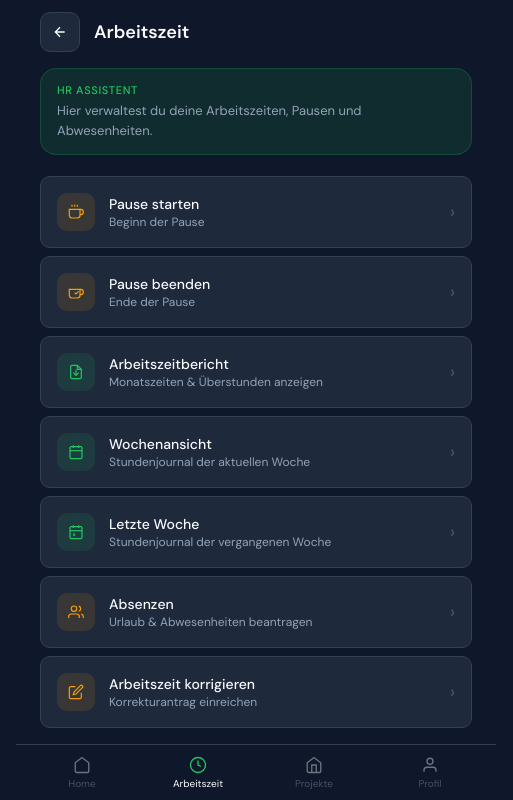
Test case: ArbeitsZeitScreen — Korrekturantrag › blockiert eine Pause, die länger ist als die Anwesenheit
This screenshot has width=513, height=800.
(page scrolled)
Click the text "Arbeitszeit korrigieren" at (182, 684), box [109,674,255,692]
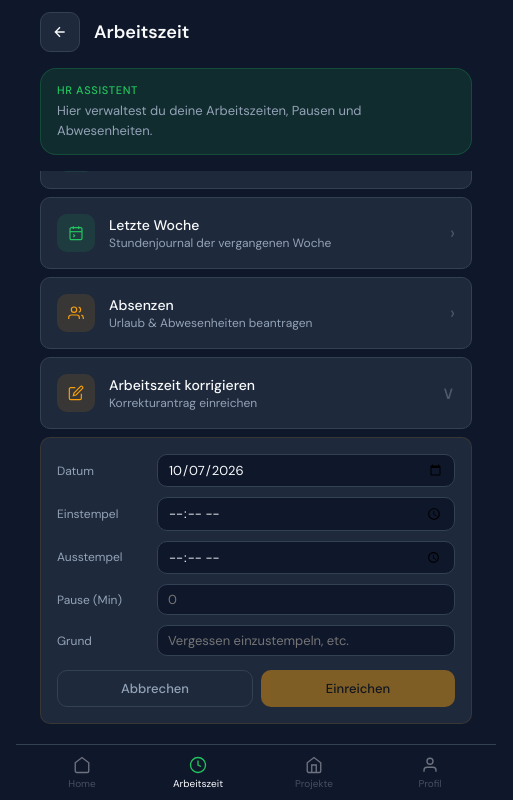
Type "07:00" into the time field next to "Einstempel" at (306, 514), box [157,497,455,531]
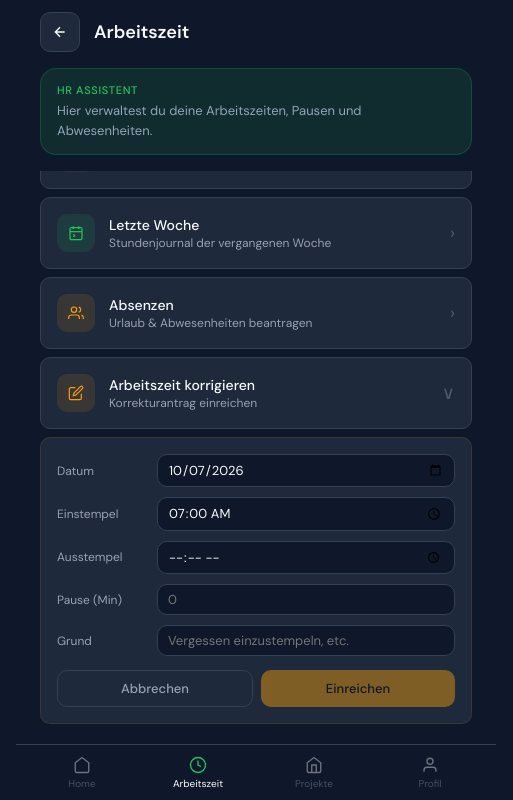
Type "18:02" into the time field next to "Ausstempel" at (306, 557), box [157,541,455,574]
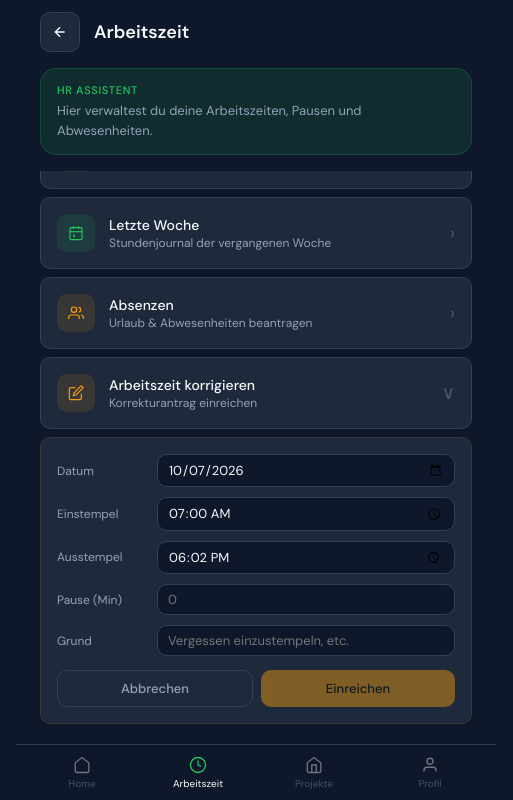
Type "Vergessen einzustempeln" into the field with placeholder "Vergessen einzustempeln, etc." at (306, 641), box [157,625,455,656]
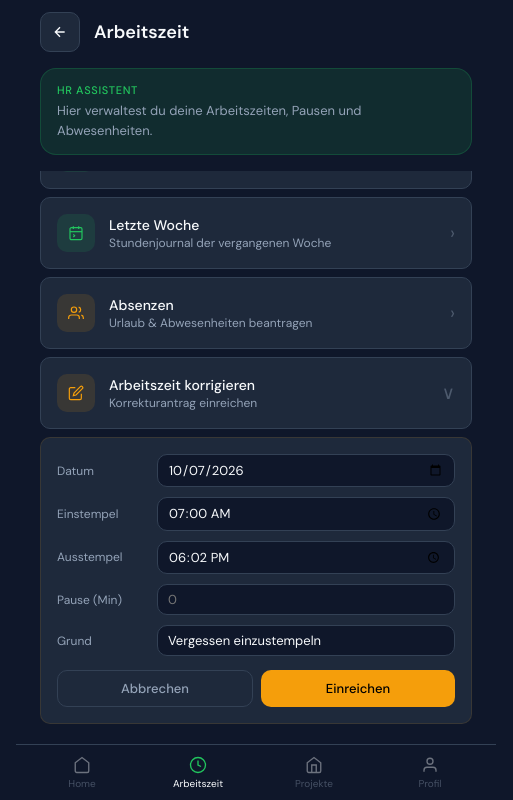
Type "695" into the number field with placeholder "0" at (306, 600), box [157,584,455,615]
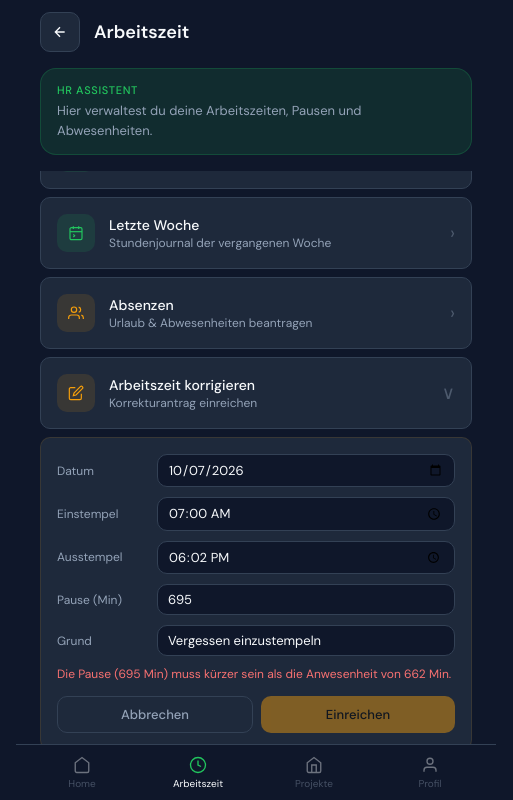
expect the text "muss kürzer sein" is shown: met, box [57,666,451,682]
expect the button "Einreichen" is disabled: met, box [261,696,455,734]
Replace the text in the number field with "30" at (306, 600), box [157,584,455,615]
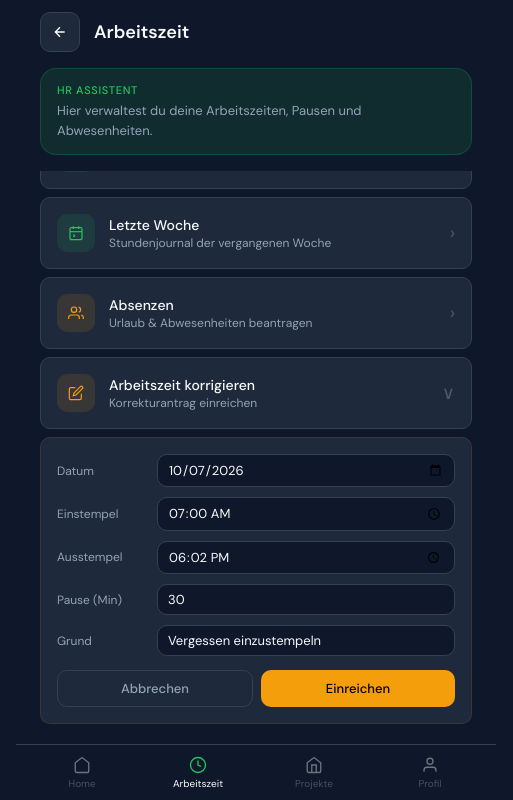
expect the text "muss kürzer sein" is gone: met
expect the button "Einreichen" is enabled: met, box [261,670,455,707]
